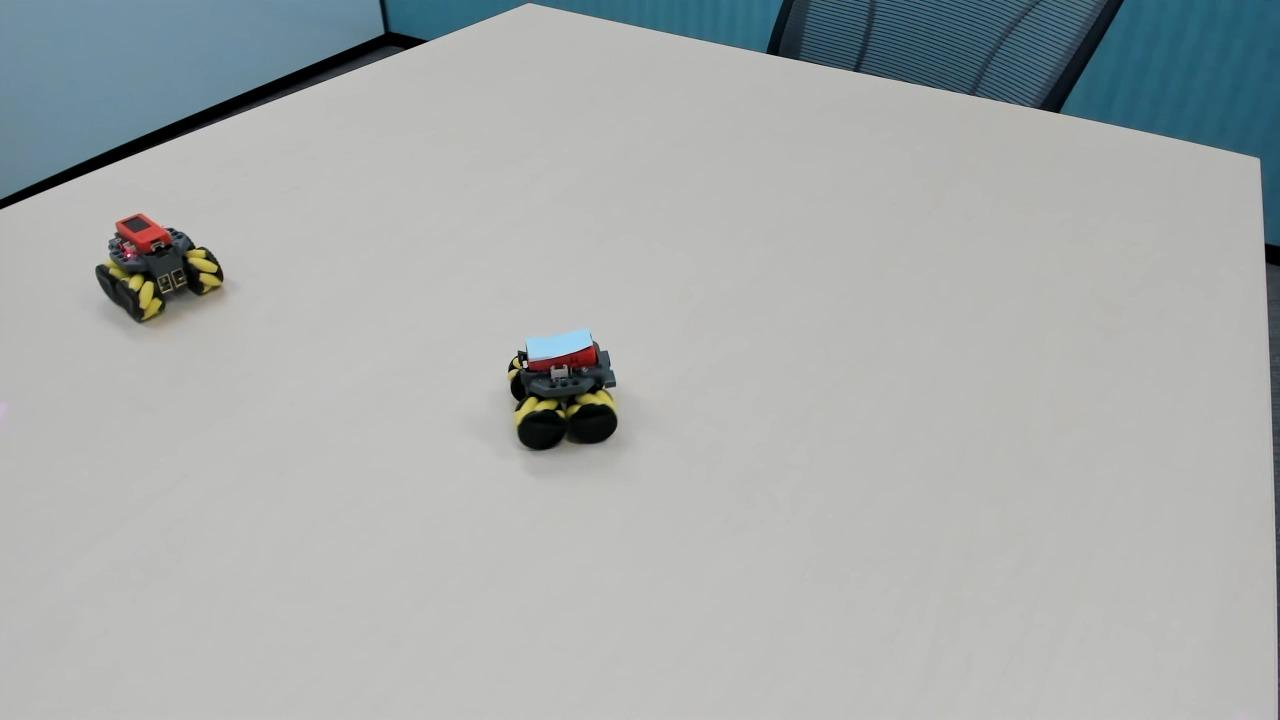B-Robot: (491, 323, 649, 484)
R-Robot: (94, 200, 244, 342)
